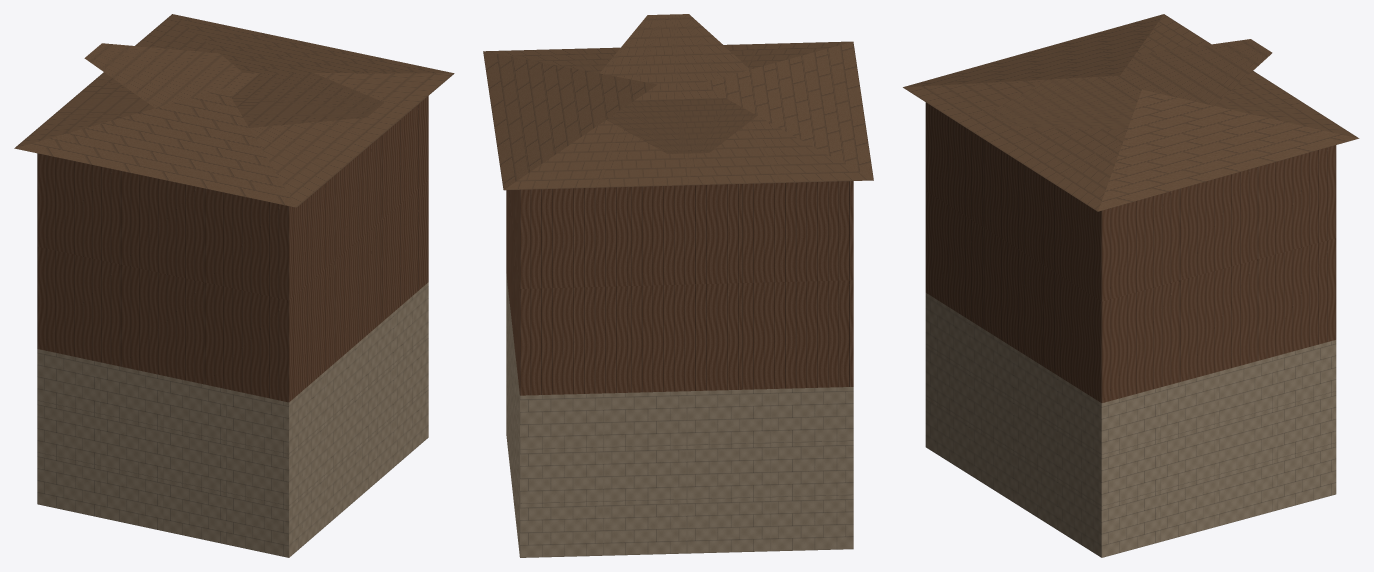
The model's file is bld_c9_16_445.gltf.
The picture shows the model from 3 angles, left to right: view 1: azimuth 30°, elevation 25°; view 2: azimuth 150°, elevation 25°; view 3: azimuth 270°, elevation 25°; orthographic projection. The views are drawn at different scales.
Parts seen in each view (by area): view 1: bld_c9_16_445; view 2: bld_c9_16_445; view 3: bld_c9_16_445.
Boxes of the visible parts, x1=… form: bld_c9_16_445: x1=14, y1=14, x2=454, y2=557; bld_c9_16_445: x1=483, y1=14, x2=873, y2=557; bld_c9_16_445: x1=903, y1=14, x2=1359, y2=557.
Size of the model in its own units: 13.99 by 12.8 by 13.66.
Materials: 3 (3 with a texture image).
